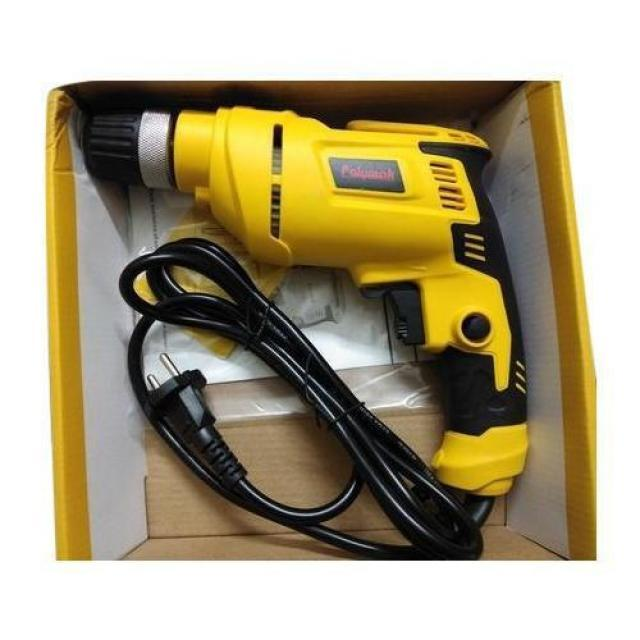drill: (78, 100, 530, 497)
